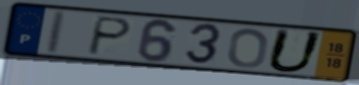3: (182, 22, 223, 68)
6: (135, 18, 179, 64)
I: (42, 9, 69, 57)
O: (226, 27, 271, 70)
P: (84, 15, 135, 57)
U: (263, 27, 326, 75)
